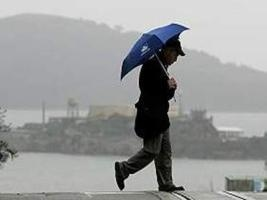person without safety: (118, 34, 187, 191)
